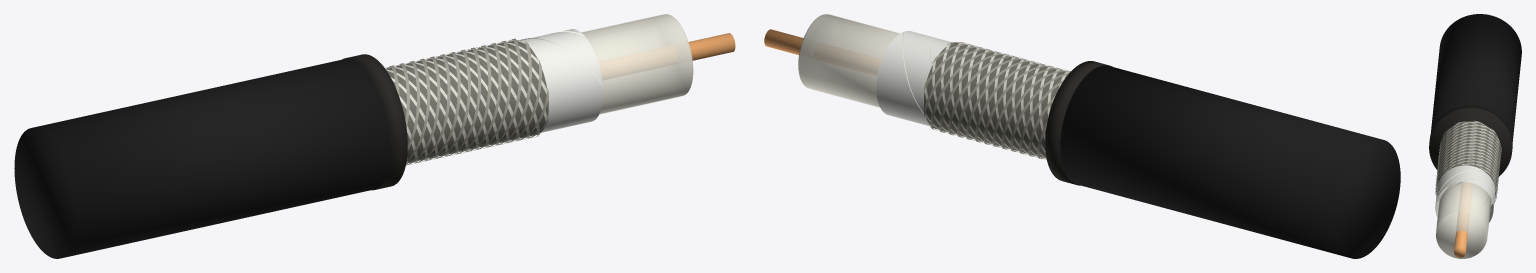
File: rf-canare-l4cfb.glb
The picture shows the model from 3 angles, left to right: view 1: azimuth 30°, elevation 25°; view 2: azimuth 150°, elevation 25°; view 3: azimuth 270°, elevation 25°; orthographic projection. The views are drawn at different scales.
Visible parts, largest first — view 1: matte black pvc jacket body, braid dark diamond recess, gas injected foam dielectric, smooth dielectric skin, duobond foil sleeve, jacket cut lip, solid center conductor continuous, braid left hand woven carrier 10, braid left hand woven carrier 09, braid left hand woven carrier 01, braid left hand woven carrier 08, braid left hand woven carrier 02 (+7 smaller); view 2: matte black pvc jacket body, braid dark diamond recess, gas injected foam dielectric, smooth dielectric skin, duobond foil sleeve, jacket cut lip, solid center conductor continuous, braid left hand woven carrier 06, braid left hand woven carrier 07, braid left hand woven carrier 05, braid left hand woven carrier 08, braid right hand woven carrier 07 (+5 smaller); view 3: matte black pvc jacket body, gas injected foam dielectric, braid dark diamond recess, jacket cut lip, smooth dielectric skin, duobond foil sleeve, solid center conductor continuous, braid left hand woven carrier 07, braid left hand woven carrier 08, subtle foil wrap lap, braid left hand woven carrier 09, braid left hand woven carrier 06 (+16 smaller).
Boxes of the visible parts, x1,y1,x2,y2 form: matte black pvc jacket body: (14,58,390,258); braid dark diamond recess: (386,40,548,162); gas injected foam dielectric: (582,14,693,113); smooth dielectric skin: (581,14,691,114); duobond foil sleeve: (521,29,602,132); jacket cut lip: (342,54,407,190); solid center conductor continuous: (688,33,735,60); braid left hand woven carrier 10: (406,41,531,161); braid left hand woven carrier 09: (407,38,521,150); braid left hand woven carrier 01: (406,56,541,165); braid left hand woven carrier 08: (399,41,511,151); braid left hand woven carrier 02: (406,54,548,164); matte black pvc jacket body: (1060,65,1400,258); braid dark diamond recess: (924,43,1069,158); gas injected foam dielectric: (798,14,899,107); smooth dielectric skin: (799,14,899,107); duobond foil sleeve: (876,31,951,126); jacket cut lip: (1045,61,1112,185); solid center conductor continuous: (764,29,803,54); braid left hand woven carrier 06: (930,51,1063,154); braid left hand woven carrier 07: (923,49,1068,151); braid left hand woven carrier 05: (939,54,1055,156); braid left hand woven carrier 08: (923,46,1070,149); braid right hand woven carrier 07: (941,44,1045,153); matte black pvc jacket body: (1431,14,1521,141); gas injected foam dielectric: (1436,182,1491,258); braid dark diamond recess: (1436,121,1500,197); jacket cut lip: (1429,105,1512,176); smooth dielectric skin: (1436,182,1491,234); duobond foil sleeve: (1435,165,1495,222); solid center conductor continuous: (1454,212,1469,257); braid left hand woven carrier 07: (1437,124,1500,198); braid left hand woven carrier 08: (1436,127,1499,184); subtle foil wrap lap: (1435,170,1495,205); braid left hand woven carrier 09: (1436,130,1499,178); braid left hand woven carrier 06: (1437,121,1500,196).
Size of the model in its own units: 6.52 by 1.14 by 1.27.
